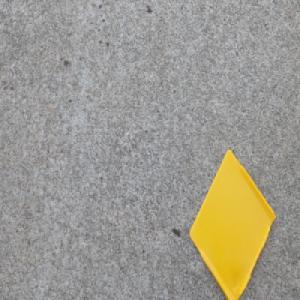PlasticPart: (188, 147, 276, 300)
